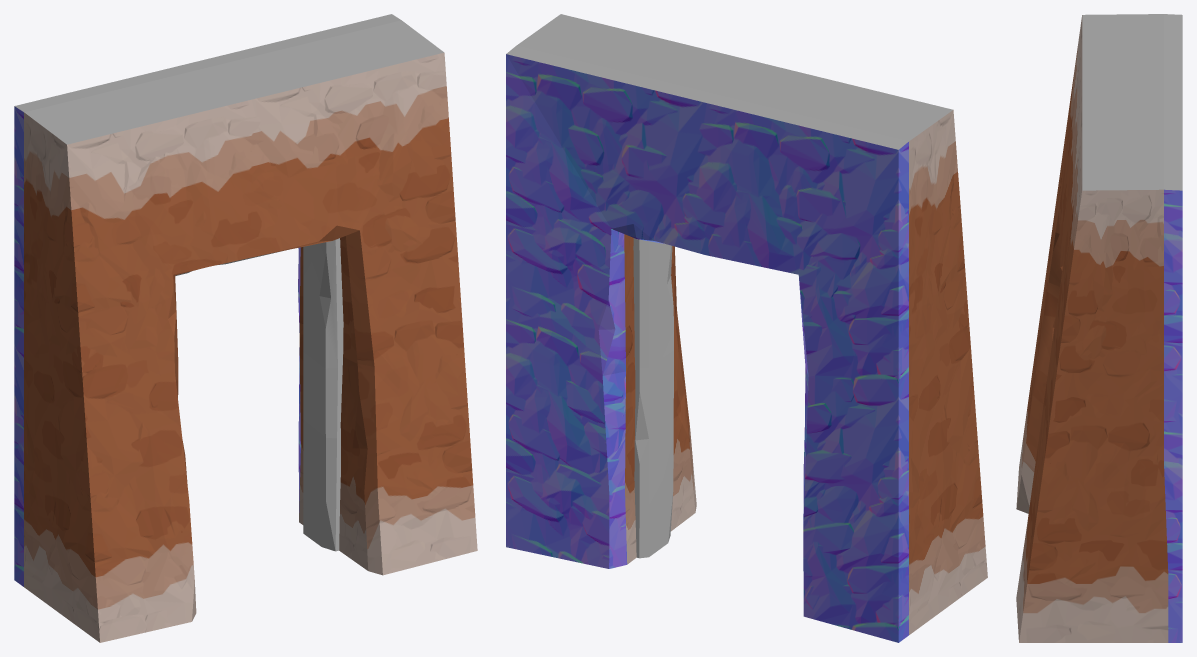
The model's file is SM_Bld_Wall_Ground_Door_01.fbx.
The picture shows the model from 3 angles, left to right: view 1: azimuth 30°, elevation 25°; view 2: azimuth 150°, elevation 25°; view 3: azimuth 270°, elevation 25°; orthographic projection. The views are drawn at different scales.
Parts seen in each view (by area): view 1: SM_Bld_Wall_Ground_Door_01; view 2: SM_Bld_Wall_Ground_Door_01; view 3: SM_Bld_Wall_Ground_Door_01.
Boxes of the visible parts, left/top/right/bottom form: SM_Bld_Wall_Ground_Door_01: left=14, top=14, right=477, bottom=642; SM_Bld_Wall_Ground_Door_01: left=506, top=14, right=987, bottom=642; SM_Bld_Wall_Ground_Door_01: left=1016, top=14, right=1182, bottom=642.
Bounding box in the file's own units: 250 × 301 × 100.
